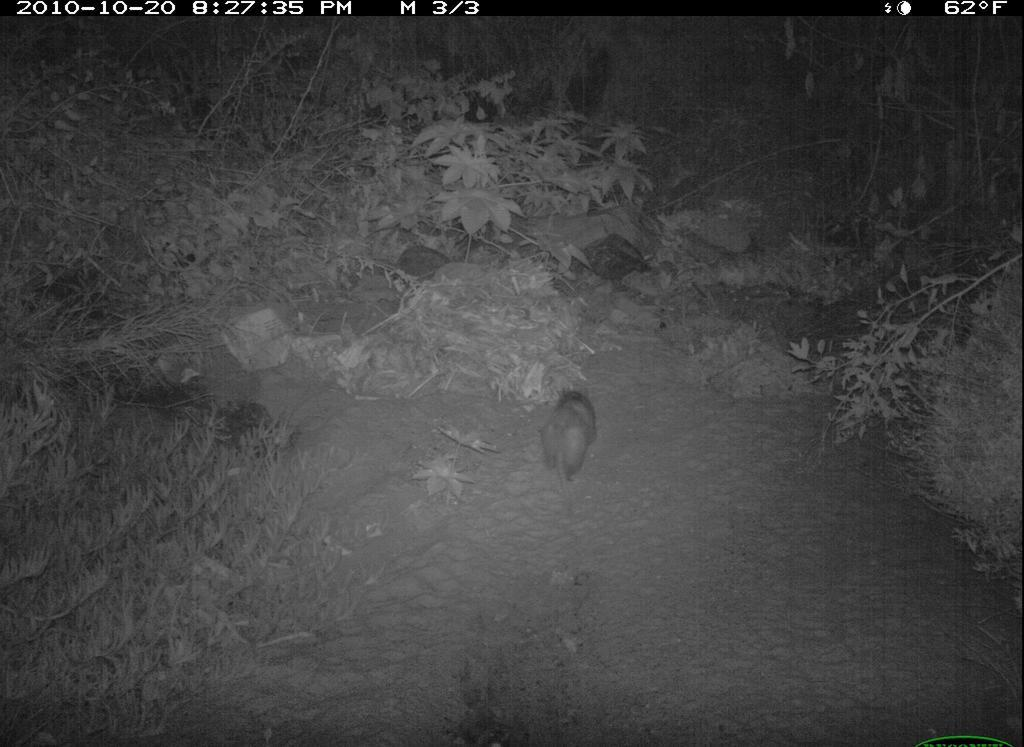opossum: (536, 377, 602, 507)
